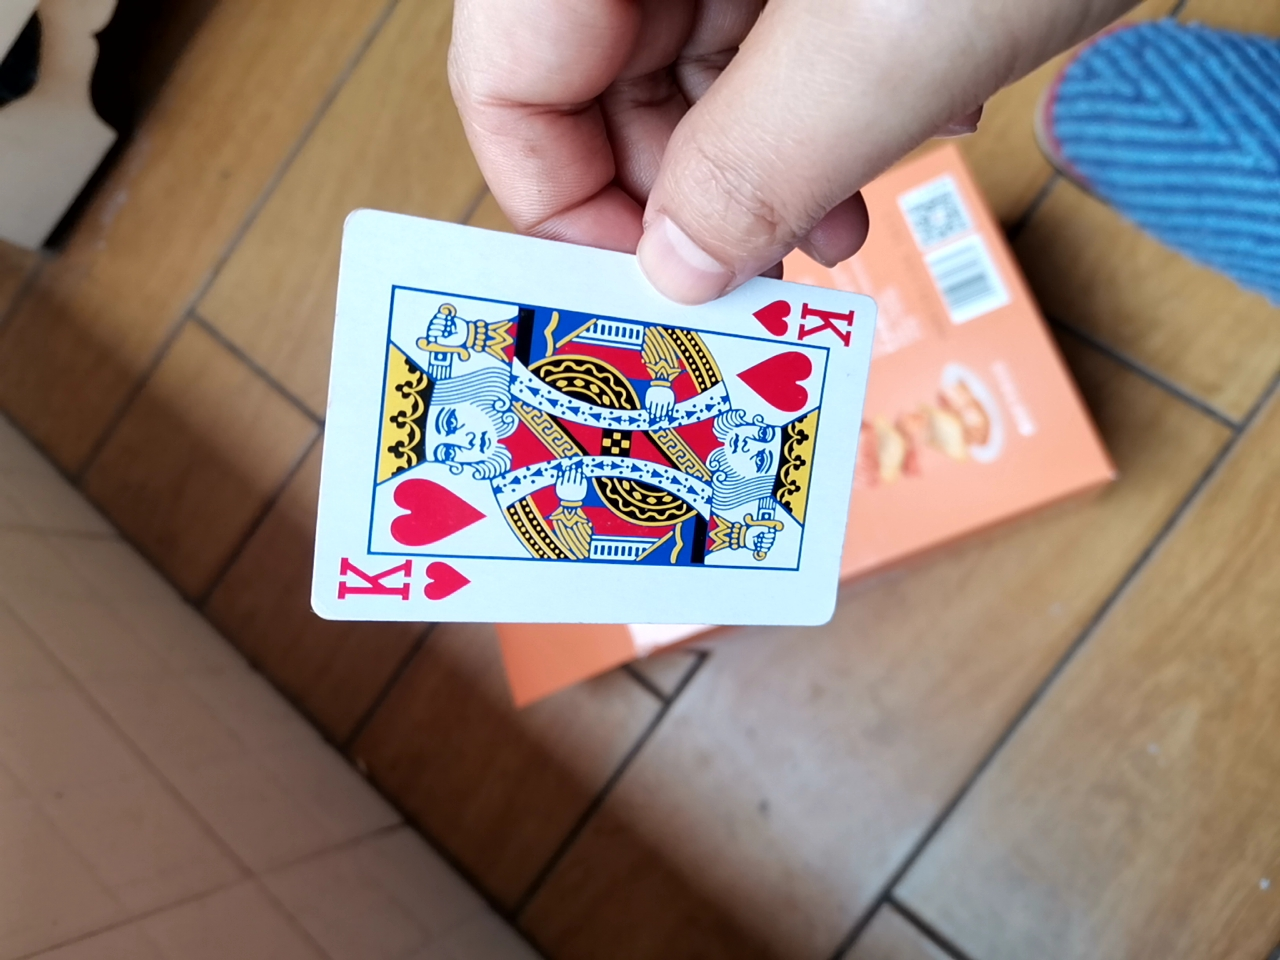hx k: (306, 223, 879, 653)
